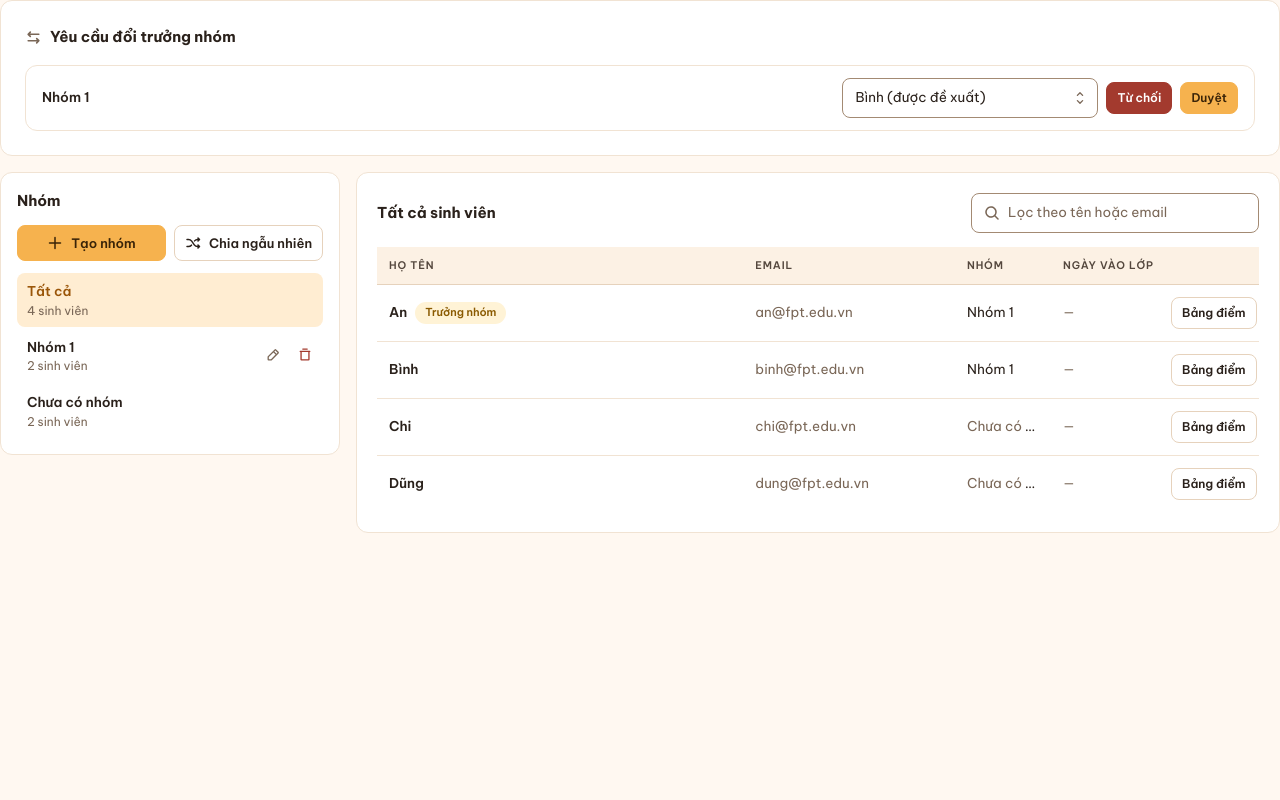
Test: ClassGroupsPanel › Xóa nhóm hỏi lại rồi lưu; nhóm đã có bài thì không xóa được; lỗi máy chủ hiện theo nhóm
Click the button named "Xóa Nhóm 1": click(305, 355) [291,341,319,369]
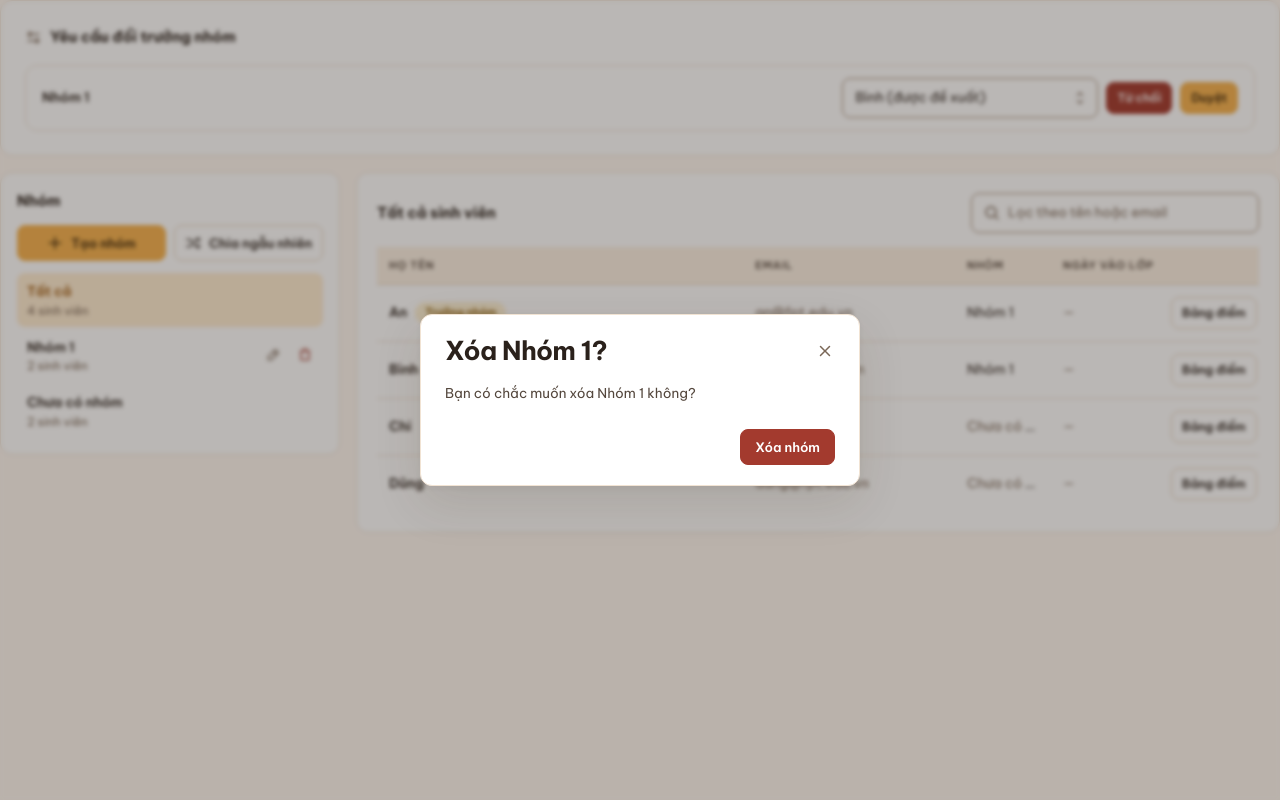
Expected: the dialog "Xóa Nhóm 1?" does not show "sinh viên sẽ về", [420,314,860,486]
Click the button "Xóa nhóm": click(788, 447) [740,429,835,465]
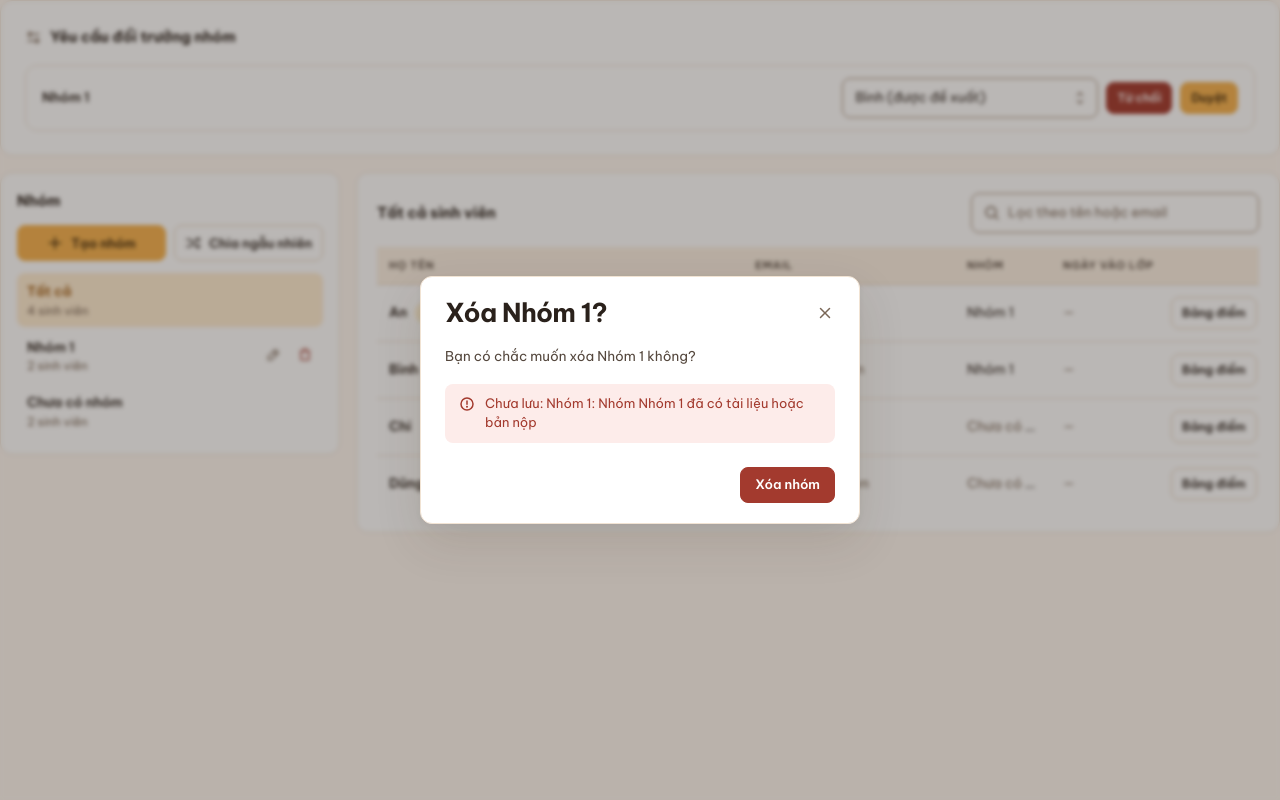
Result: the message shows "Nhóm 1: Nhóm Nhóm 1 đã có tài liệu hoặc bản nộp" at [485,395,804,430]
